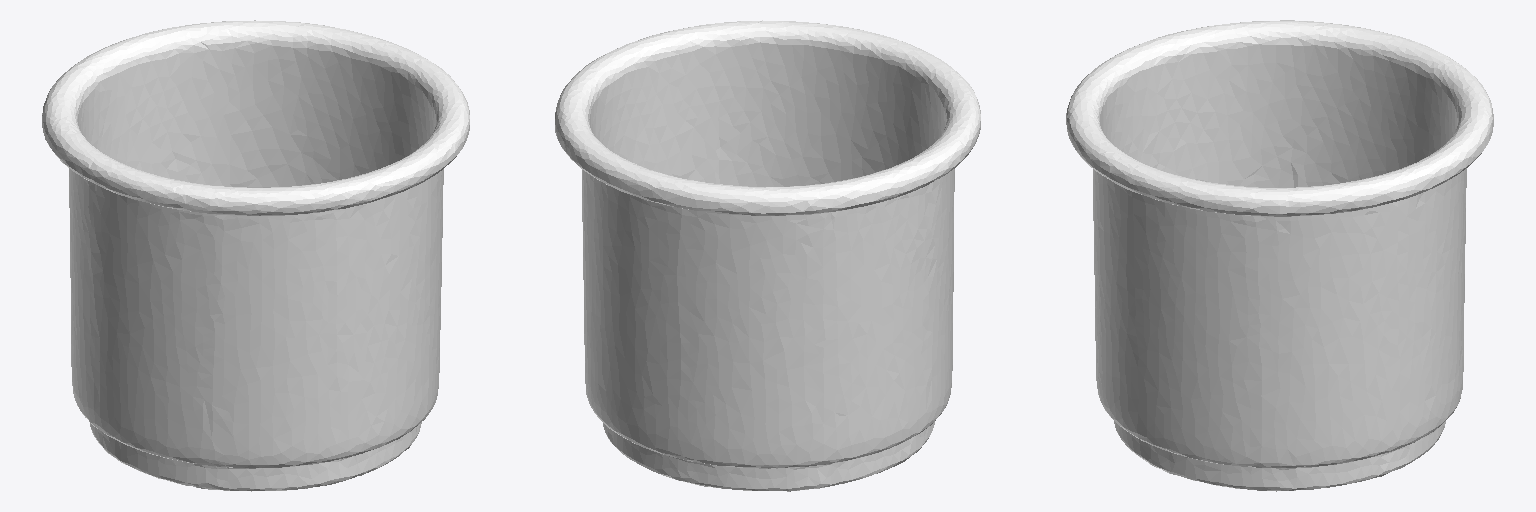
robot.urdf — 072-c_toy_airplane:
<robot name="072-c_toy_airplane">
	<link name="_name">
		<visual>
			<origin xyz="0.3339875323343421 -0.03384443109879014 -0.2614525198224048" rpy="0 0 0" />
			<geometry>
				<mesh filename="072-c_toy_airplane/google_16k/textured.obj" scale="10 10 10" />
			</geometry>
			<material name="texture">
				<color rgba="1.0 1.0 1.0 1.0" />
			</material>
		</visual>
		<collision>
			<geometry>
				<mesh filename="072-c_toy_airplane/google_16k/textured_vhacd.obj" scale="10 10 10" />
			</geometry>
		<origin xyz="0.3339875323343421 -0.03384443109879014 -0.2614525198224048" rpy="0 0 0" /></collision>
		<inertial>
			<mass value="1.0" />
			<inertia ixx="1.0" ixy="0.0" ixz="0.0" iyy="1.0" iyz="0.0" izz="1.0" />
		</inertial>
	</link>
</robot>

--- Facts derived from the render (not from the file) ---
The picture shows the robot from 3 angles, left to right: view 1: azimuth 30°, elevation 25°; view 2: azimuth 150°, elevation 25°; view 3: azimuth 270°, elevation 25°; orthographic projection.
Robot: 072-c_toy_airplane — 1 links, 0 joints (none); root link _name; default pose: all joints at 0.
Visible links, largest first — view 1: _name; view 2: _name; view 3: _name.
Boxes of the visible links, x1,y1,x2,y2 form: _name: (42,20,469,491); _name: (555,20,980,491); _name: (1066,20,1493,491).
Size in the robot's own frame: 0.915 by 0.9162 by 0.7506 metres.
1 mesh visuals loaded from 1 distinct referenced files (1 OBJ).